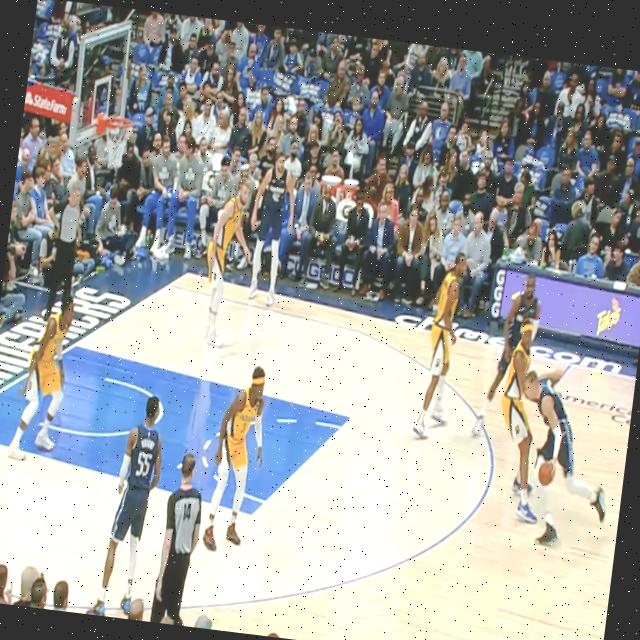no foul: (476, 322, 634, 566), (468, 262, 547, 455)
